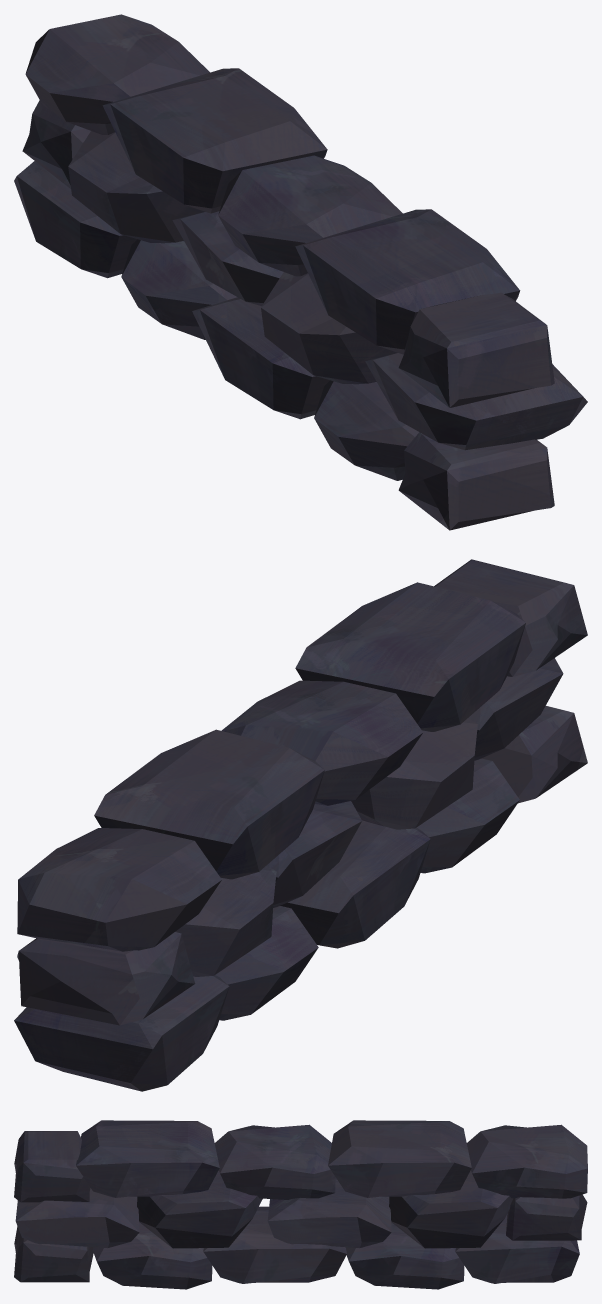
File: Stonewall01.fbx
The picture shows the model from 3 angles, top to bottom: view 1: azimuth 30°, elevation 25°; view 2: azimuth 150°, elevation 25°; view 3: azimuth 270°, elevation 25°; orthographic projection. The views are drawn at different scales.
Visible parts, largest first — view 1: Stonewall01; view 2: Stonewall01; view 3: Stonewall01.
Boxes of the visible parts, x1,y1,x2,y2 form: Stonewall01: (14, 14, 587, 530); Stonewall01: (14, 559, 587, 1091); Stonewall01: (14, 1120, 587, 1289).
Size of the model in its own units: 0.919 by 1.05 by 3.83.
1 material, 1 textured.
